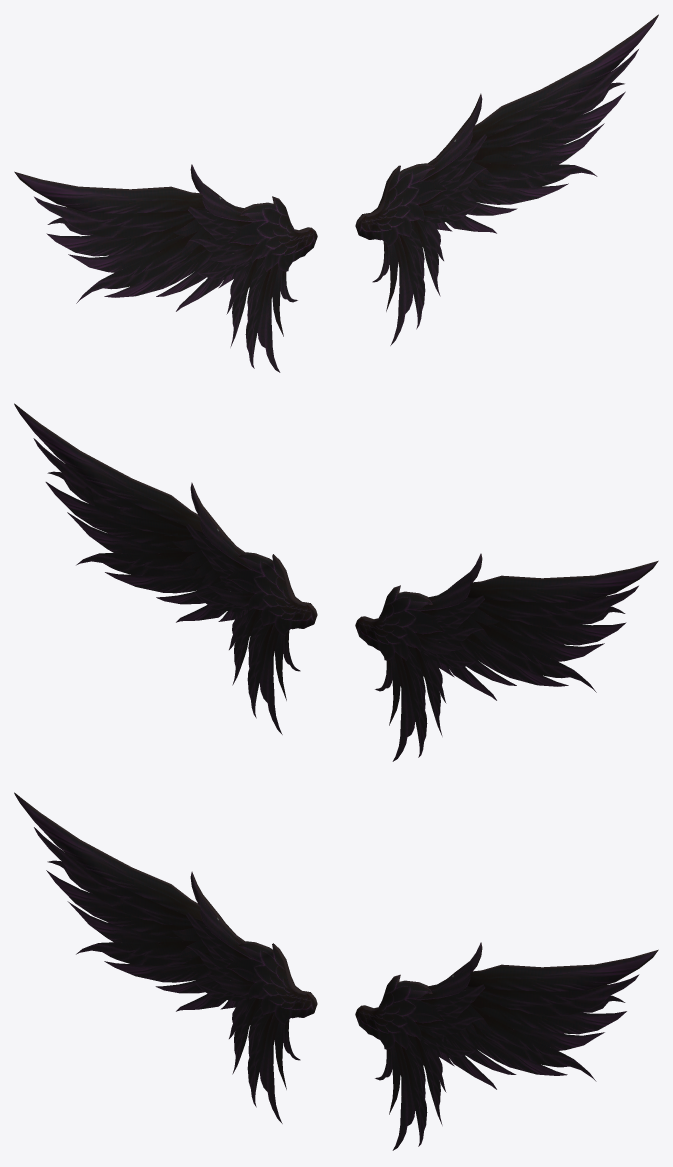
File: outfit_dark_wings.glb
The picture shows the model from 3 angles, top to bottom: view 1: azimuth 30°, elevation 25°; view 2: azimuth 150°, elevation 25°; view 3: azimuth 330°, elevation 25°; orthographic projection.
Visible parts, largest first — view 1: outfit_dark_wings; view 2: outfit_dark_wings; view 3: outfit_dark_wings.
Boxes of the visible parts, box(x1,y1,x2,y2) form: outfit_dark_wings: box(14, 14, 658, 372); outfit_dark_wings: box(14, 403, 658, 761); outfit_dark_wings: box(14, 792, 658, 1150).
Bounding box in the file's own units: 0.7573 × 0.3002 × 0.00745.
1 material, 1 textured.
